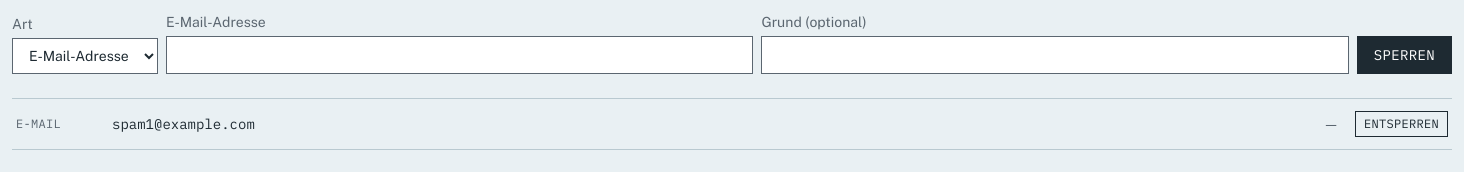
Test case: AdminBlocklistPage › removes an entry
Expected: the text "spam1@example.com" is shown, [112,115,255,133]
Step 1. Click the button "Entsperren" → click(1402, 124), box [1355,111,1448,137]
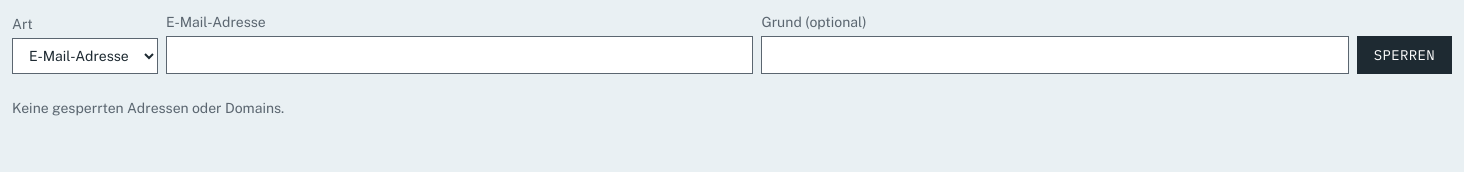
Expected: the text "Keine gesperrten Adressen oder Domains." is shown, [12,100,284,116]
